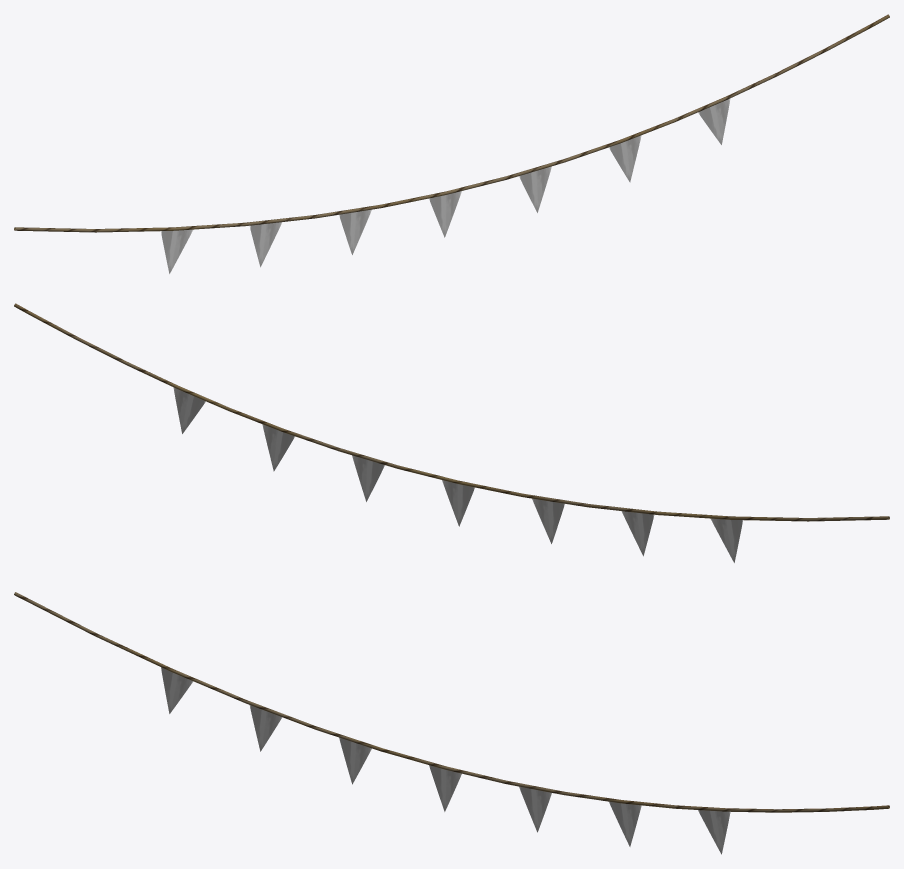
Rendered from Banner_SmallTriangles_Short.fbx.
3 renders of one model, top to bottom at view 1: azimuth 30°, elevation 25°; view 2: azimuth 150°, elevation 25°; view 3: azimuth 330°, elevation 25°, orthographic.
Parts seen in each view (by area): view 1: Banner_SmallTriangles_Short; view 2: Banner_SmallTriangles_Short; view 3: Banner_SmallTriangles_Short.
Part boxes in pixels (<box>): Banner_SmallTriangles_Short: <box>14,14,889,273</box>; Banner_SmallTriangles_Short: <box>14,303,889,562</box>; Banner_SmallTriangles_Short: <box>14,592,889,854</box>.
Bounding box in the file's own units: 1112 × 140 × 3.89.
